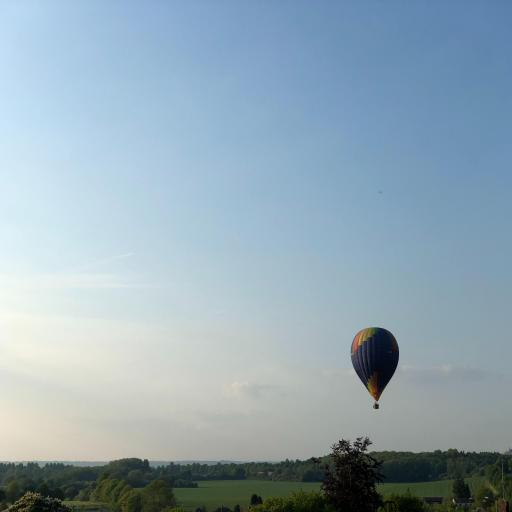hot air ballon: (350, 324, 402, 411)
